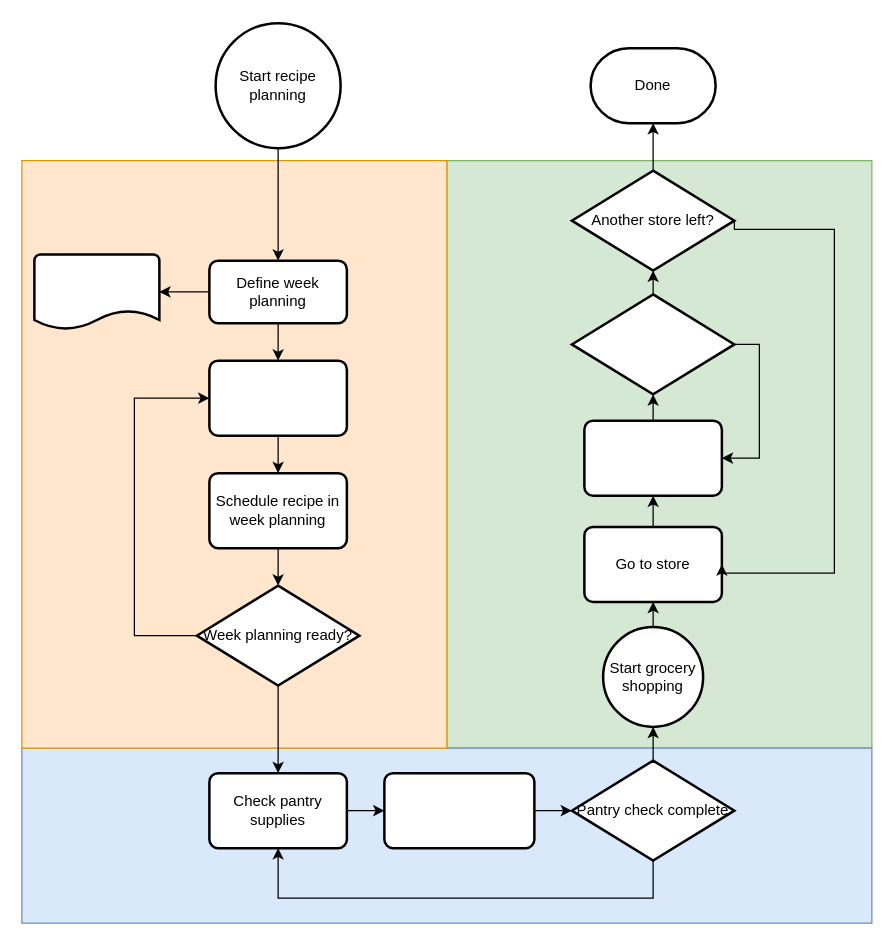
The diagram is 894 pixels wide and 945 high, and some of its shapes have lost their labels. The box of each missing label's shape, as (x1, y1, x2, y2) in pixels:
Add pantry supply to grocery list: (382, 771, 535, 849)
List complete?: (570, 292, 735, 395)
Search recipe: (208, 359, 348, 436)
Shop grocery item: (582, 419, 722, 496)
Week planning overview: (32, 252, 160, 330)
